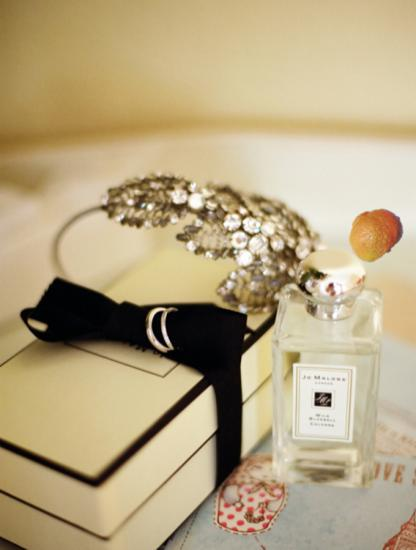Mandarine: (345, 204, 404, 263)
